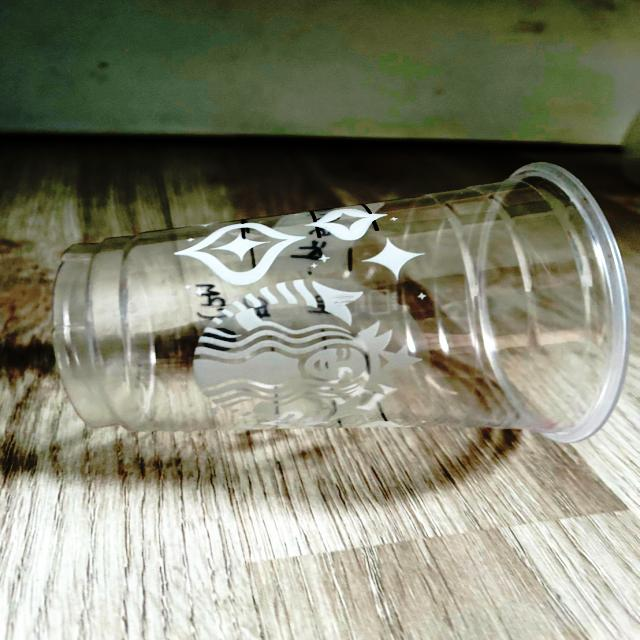Plastic Cup: (54, 163, 628, 442)
